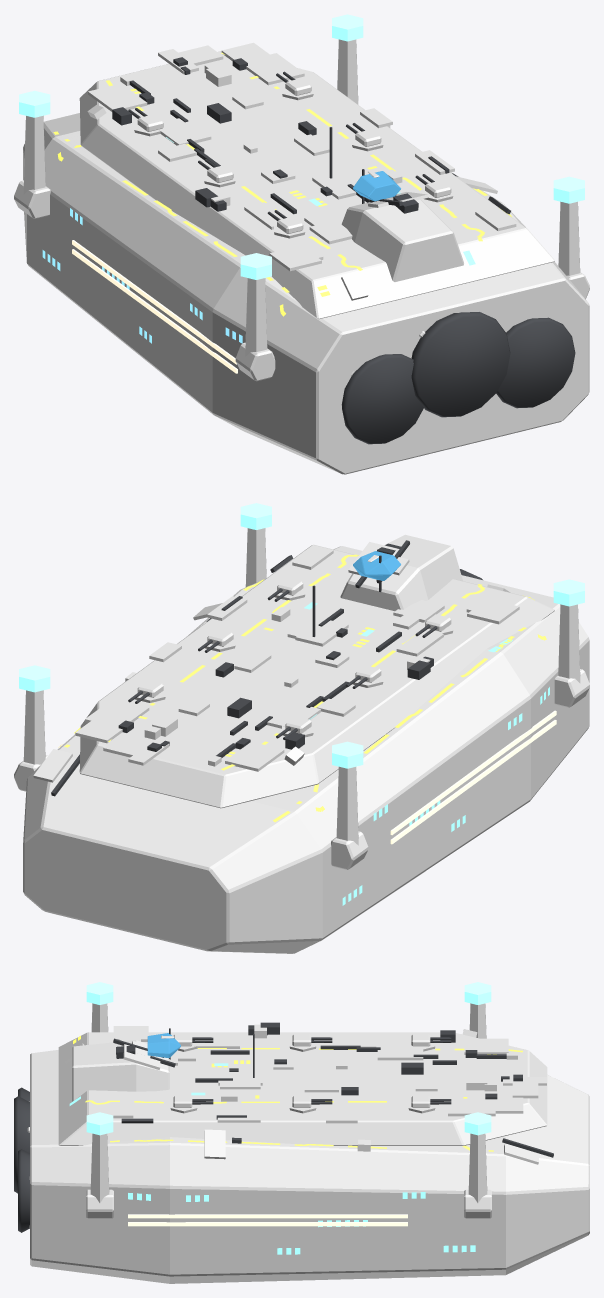
The model's file is bastion.glb.
The picture shows the model from 3 angles, top to bottom: view 1: azimuth 30°, elevation 25°; view 2: azimuth 150°, elevation 25°; view 3: azimuth 270°, elevation 25°; orthographic projection. The views are drawn at different scales.
Parts seen in each view (by area): view 1: Корпус, Стена, Накладные_плиты, Кожух_дюзы.002, Рубка, Кожух_дюзы.001, Кожух_дюзы, Механика, Разметка, Пилон_ствол.002, Пилон_ствол.003, Пилон_ствол.001 (+11 smaller); view 2: Корпус, Стена, Накладные_плиты, Рубка, Механика, Разметка, Пилон_ствол.002, Пилон_ствол.003, Пилон_ствол, Пилон_ствол.001, Окна.003, Окна.002 (+8 smaller); view 3: Корпус, Стена, Накладные_плиты, Рубка, Механика, Окна, Окна.001, Пилон_ствол, Пилон_ствол.001, Разметка, Кожух_дюзы.002, Кожух_дюзы (+10 smaller).
Part boxes in pixels (x1,y1,x2,y2): Корпус: (23,113,589,474); Стена: (79,51,554,319); Накладные_плиты: (87,42,516,300); Кожух_дюзы.002: (411,312,510,417); Рубка: (341,199,463,281); Кожух_дюзы.001: (341,354,423,444); Кожух_дюзы: (496,317,575,408); Механика: (112,57,510,214); Разметка: (53,52,511,316); Пилон_ствол.002: (23,115,45,194); Пилон_ствол.003: (245,278,267,356); Пилон_ствол.001: (558,201,580,275); Корпус: (23,546,589,953); Стена: (79,544,554,808); Накладные_плиты: (33,542,519,782); Рубка: (340,534,462,611); Механика: (51,540,433,796); Разметка: (58,554,546,822); Пилон_ствол.002: (336,766,358,845); Пилон_ствол.003: (558,604,580,683); Пилон_ствол: (23,690,45,764); Пилон_ствол.001: (245,528,266,586); Окна.003: (390,720,556,844); Окна.002: (390,710,556,835); Корпус: (30,1050,589,1283); Стена: (58,1032,547,1145); Накладные_плиты: (64,1024,546,1164); Рубка: (72,1040,169,1101); Механика: (113,1022,553,1157); Окна: (128,1214,407,1218); Окна.001: (128,1222,407,1226); Пилон_ствол: (468,1133,487,1202); Пилон_ствол.001: (90,1133,109,1202); Разметка: (73,1035,522,1151); Кожух_дюзы.002: (14,1096,29,1193); Кожух_дюзы: (18,1149,29,1232).
Size of the model in its own units: 1.21 by 0.7899 by 2.06.
